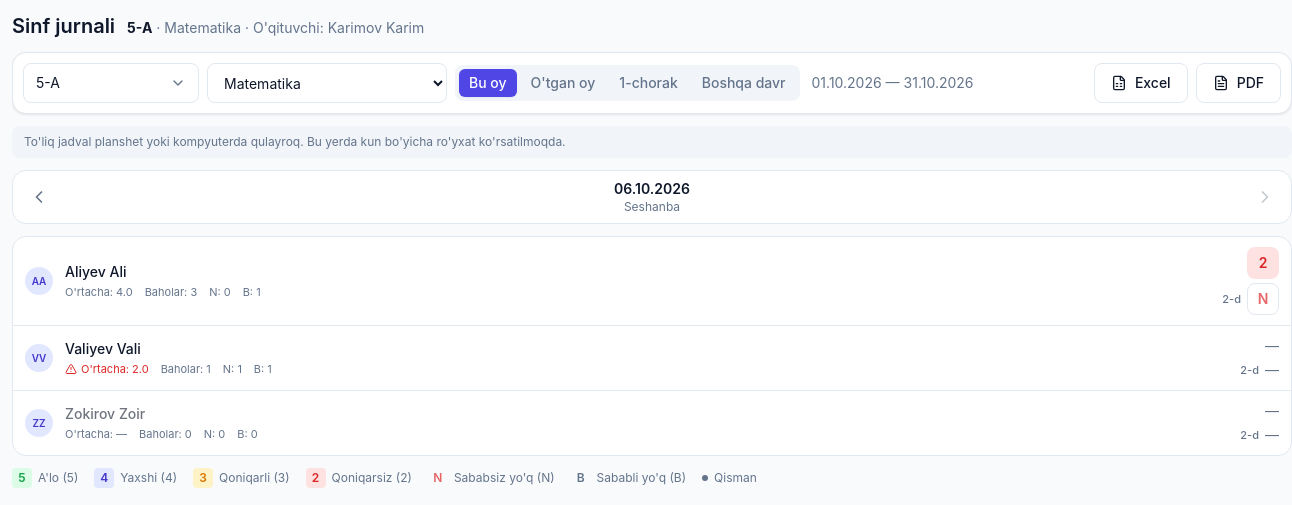
Test: JournalView: dars ustunlari › mobil: kun bo`yicha ro`yxatda har bir dars alohida chip, oldida dars belgisi
Expected: the text with test id "day-label" reads "06.10.2026", [614,180,690,197]
Click the button with test id "day-prev" at (39,197), box [21,179,57,215]
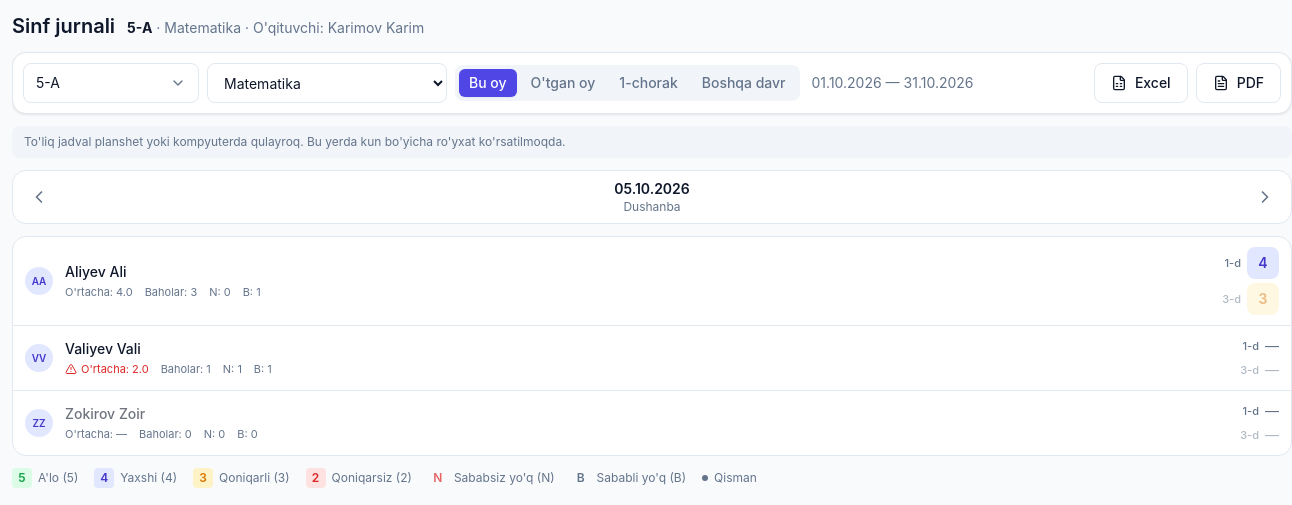
Now the text with test id "day-label" reads "05.10.2026", box [614,180,690,197]
Now the elements with test id "lesson-tag" read "1-d", "3-d", in this order, box [1224,255,1241,271]; [1222,291,1241,307]
Now the elements with test id "chip-grade" read "4", "3", in this order, box [1247,247,1279,279]; [1247,283,1279,315]
